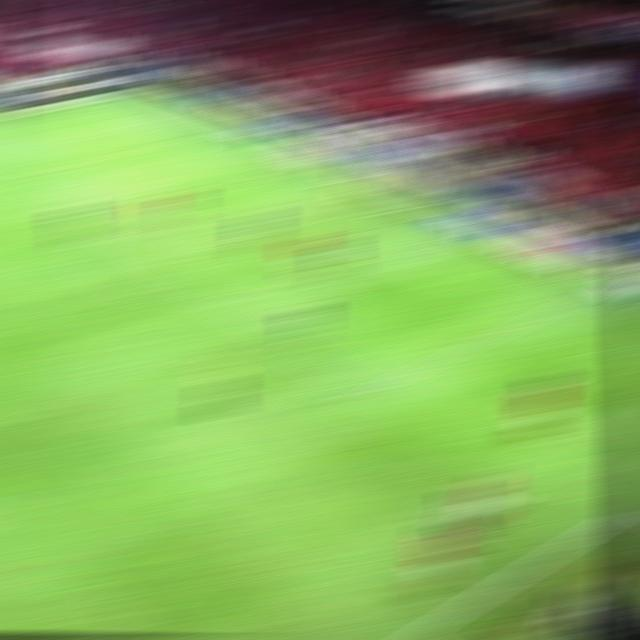bigarea_bottom_inner: (347, 384, 380, 398)
bigarea_bottom_outter: (576, 286, 609, 296)
bigarea_top_inner: (13, 170, 43, 181)
bigarea_top_outter: (203, 124, 230, 130)
bottom_arc_area_intersection: (209, 296, 240, 308)
corner: (120, 90, 152, 94)
smallarea_bottom_inner: (377, 249, 409, 264)
smallarea_bottom_outter: (441, 230, 470, 237)
smallarea_top_inner: (222, 176, 253, 185)
top_arc_area_intersection: (93, 224, 123, 233)
